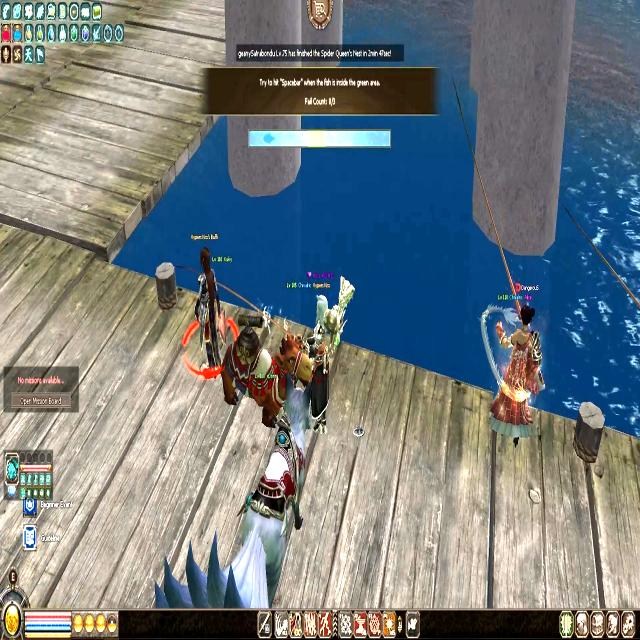fishes: (261, 127, 276, 148)
